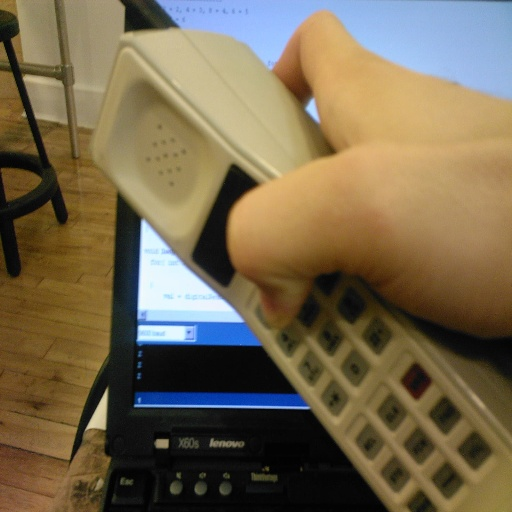hand: (225, 7, 511, 340)
